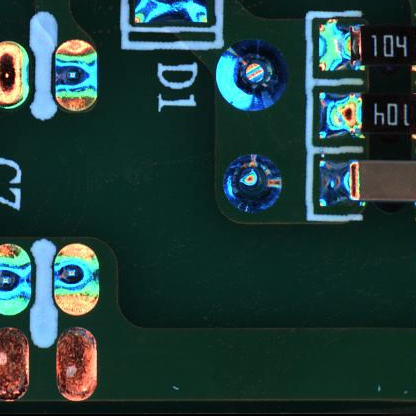spot: (210, 35, 293, 117), (212, 148, 296, 220), (51, 33, 106, 115), (49, 235, 102, 318)
